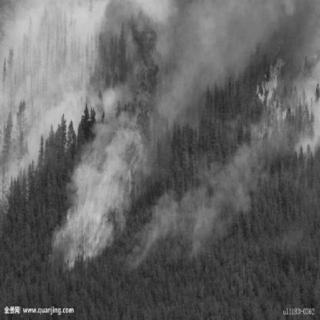Fire: (243, 47, 293, 149)
